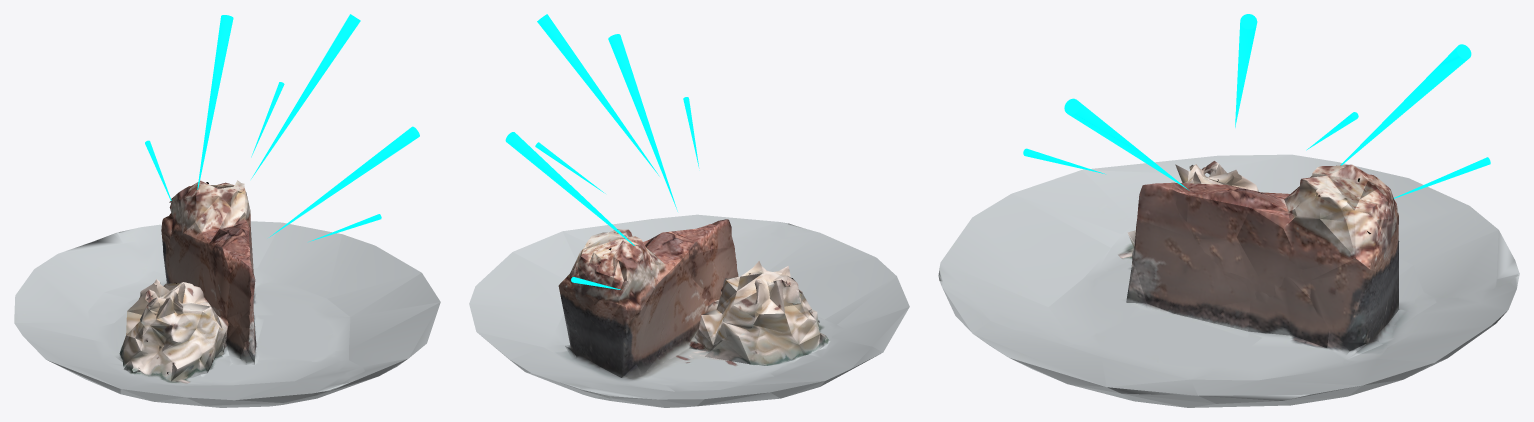
The model's file is Cake.gltf.
3 views of the same model, side by side, from view 1: azimuth 30°, elevation 25°; view 2: azimuth 150°, elevation 25°; view 3: azimuth 270°, elevation 25° (orthographic). The views are drawn at different scales.
Parts seen in each view (by area): view 1: poly10k, cones1; view 2: poly10k, cones1; view 3: poly10k, cones1.
Part boxes in pixels (bbox=[...]): poly10k: bbox=[14, 180, 440, 407]; cones1: bbox=[145, 14, 419, 241]; poly10k: bbox=[469, 214, 909, 407]; cones1: bbox=[505, 14, 699, 289]; poly10k: bbox=[938, 154, 1519, 407]; cones1: bbox=[1023, 14, 1490, 198].
Size of the model in its own units: 2.24 by 1.76 by 2.26.
Materials: 2 (1 with a texture image).
